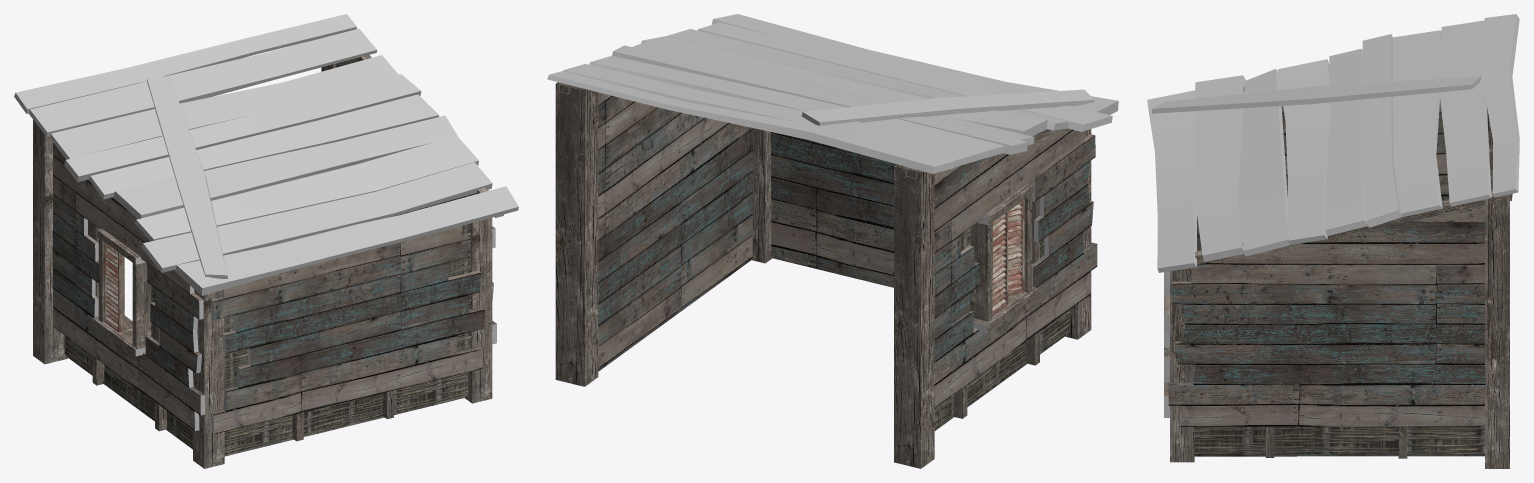
File: Shed2.fbx
3 renders of one model, left to right at view 1: azimuth 30°, elevation 25°; view 2: azimuth 150°, elevation 25°; view 3: azimuth 270°, elevation 25°, orthographic. The views are drawn at different scales.
Parts seen in each view (by area): view 1: polySurface177; view 2: polySurface177; view 3: polySurface177.
Part boxes in pixels (x1=…): polySurface177: x1=14, y1=14, x2=518, y2=468; polySurface177: x1=547, y1=14, x2=1118, y2=468; polySurface177: x1=1147, y1=14, x2=1519, y2=468.
Bounding box in the file's own units: 5.2 × 3.78 × 4.49.
